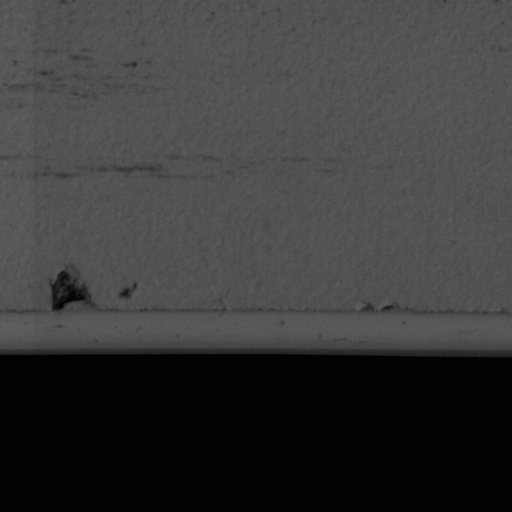bengque: (48, 265, 89, 313)
